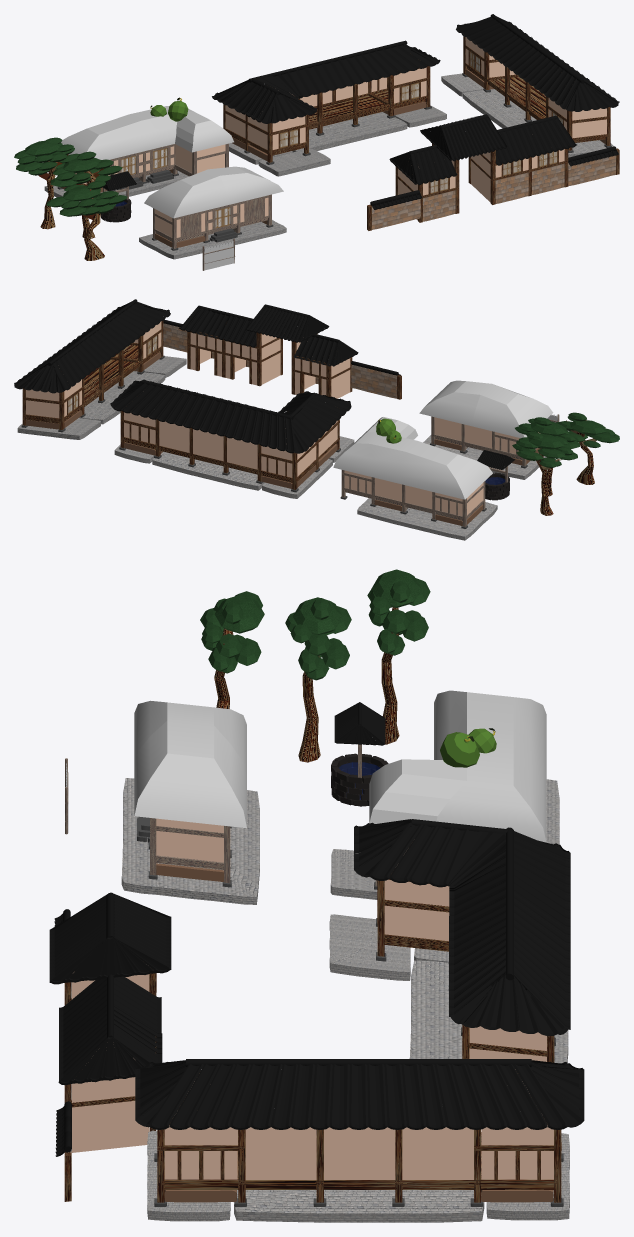
File: House.FBX
The picture shows the model from 3 angles, top to bottom: view 1: azimuth 30°, elevation 25°; view 2: azimuth 150°, elevation 25°; view 3: azimuth 270°, elevation 25°; orthographic projection. The views are drawn at different scales.
Parts seen in each view (by area): view 1: Object008, Object005, Object007, Object011, Object012, Cylinder003, Cylinder002, Cylinder001, Object010, Object015, Box006; view 2: Object008, Object007, Object011, Object005, Object012, Cylinder002, Cylinder003, Object010, Object015, Cylinder001; view 3: Object007, Object008, Object005, Object012, Object011, Cylinder001, Cylinder002, Cylinder003, Object015.
Part boxes in pixels (box(x1,y1,x2,y2)): Object008: box(212, 40, 446, 176); Object005: box(389, 114, 619, 222); Object007: box(441, 14, 619, 157); Object011: box(44, 97, 233, 201); Object012: box(139, 166, 286, 259); Cylinder003: box(46, 180, 127, 260); Cylinder002: box(14, 137, 79, 229); Cylinder001: box(50, 151, 122, 238); Object010: box(367, 190, 422, 230); Object015: box(100, 171, 136, 222); Box006: box(202, 238, 235, 270); Object008: box(110, 379, 354, 498); Object007: box(14, 299, 186, 439); Object011: box(333, 417, 497, 540); Object005: box(163, 304, 358, 398); Object012: box(419, 380, 553, 479); Cylinder002: box(512, 431, 577, 515); Cylinder003: box(556, 412, 619, 484); Object010: box(351, 361, 401, 399); Object015: box(477, 450, 514, 500); Cylinder001: box(515, 417, 579, 496); Object007: box(135, 1059, 584, 1222); Object008: box(329, 819, 570, 1069); Object005: box(49, 892, 171, 1201); Object012: box(121, 700, 259, 904); Object011: box(330, 690, 559, 899); Cylinder001: box(285, 597, 351, 762); Cylinder002: box(367, 569, 430, 744); Cylinder003: box(200, 591, 264, 708); Object015: box(331, 702, 388, 806).
Size of the model in its own units: 378 by 59.3 by 167.
